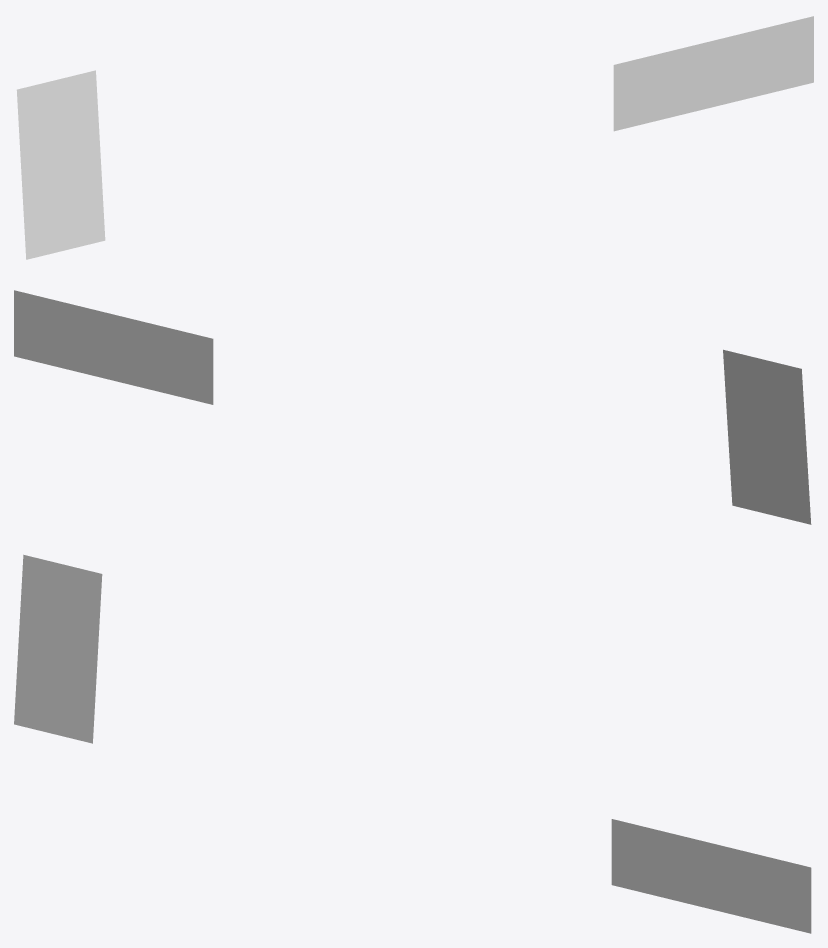
The model's file is Gate_02_Derelict_07.glb.
3 views of the same model, one above another, from view 1: azimuth 30°, elevation 25°; view 2: azimuth 150°, elevation 25°; view 3: azimuth 330°, elevation 25° (orthographic).
Parts seen in each view (by area): view 1: gate_02_Derelict_07_LOD0; view 2: gate_02_Derelict_07_LOD0; view 3: gate_02_Derelict_07_LOD0.
Boxes of the visible parts, <box> form: gate_02_Derelict_07_LOD0: <box>16,16,813,259</box>; gate_02_Derelict_07_LOD0: <box>14,290,811,524</box>; gate_02_Derelict_07_LOD0: <box>14,554,811,933</box>.
Size of what is drawn, in the model's own units: 16.45 by 3.65 by 0.438.
1 material, 1 textured.
